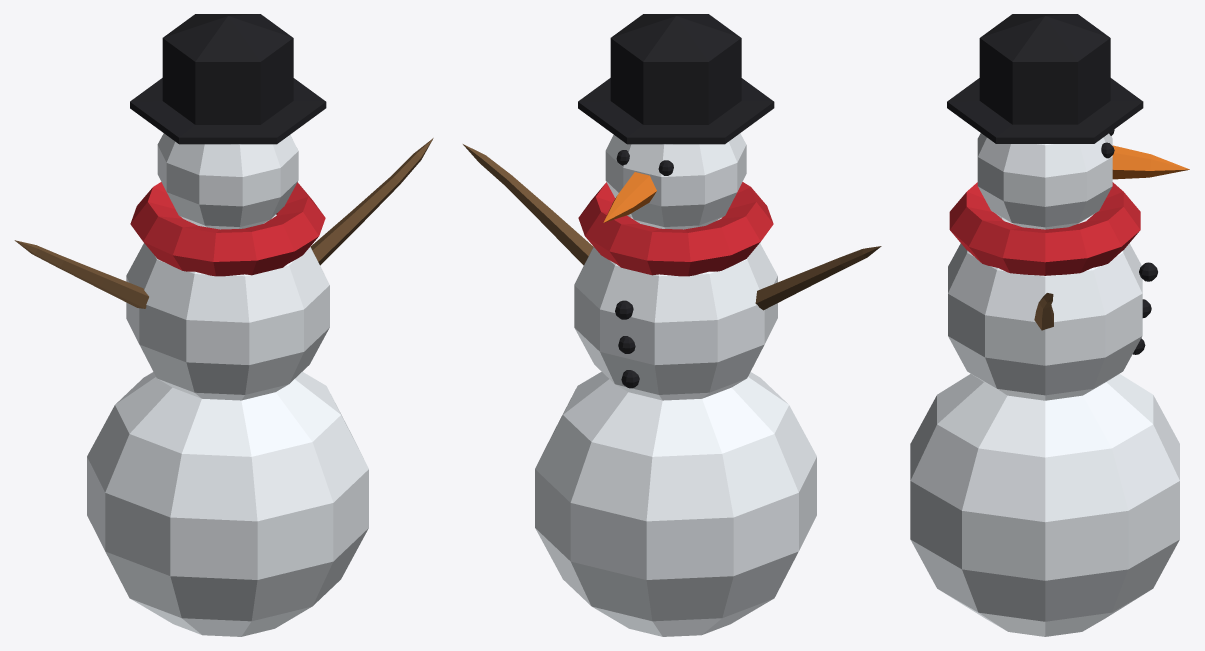
The model's file is Snowman.glb.
The picture shows the model from 3 angles, left to right: view 1: azimuth 30°, elevation 25°; view 2: azimuth 150°, elevation 25°; view 3: azimuth 270°, elevation 25°; orthographic projection.
Visible parts, largest first — view 1: Snowman; view 2: Snowman; view 3: Snowman.
Part boxes in pixels (x1,y1,x2,y2): Snowman: [14, 14, 433, 636]; Snowman: [463, 14, 881, 636]; Snowman: [910, 14, 1189, 636].
Size of the model in its own units: 3 by 4.15 by 1.73.
Materials: 1 (1 with a texture image).
